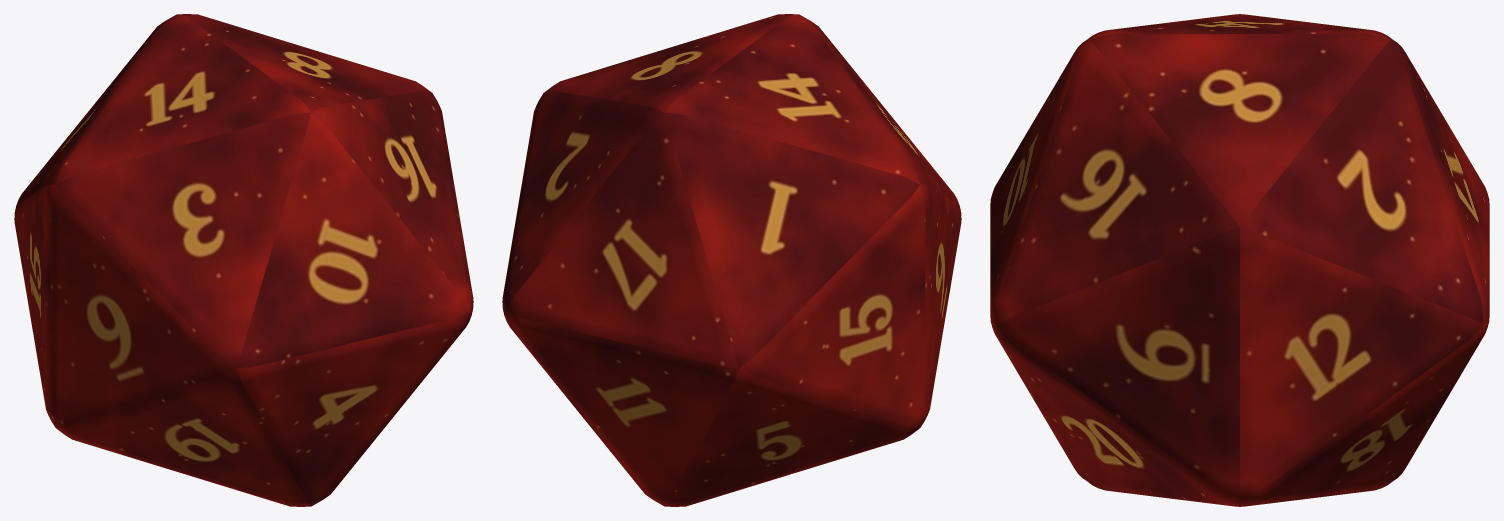
The picture shows the model from 3 angles, left to right: view 1: azimuth 30°, elevation 25°; view 2: azimuth 150°, elevation 25°; view 3: azimuth 270°, elevation 25°; orthographic projection. The views are drawn at different scales.
Visible parts, largest first — view 1: d20; view 2: d20; view 3: d20.
Boxes of the visible parts, x1,y1,x2,y2 form: d20: [14, 14, 473, 506]; d20: [502, 14, 961, 506]; d20: [990, 14, 1489, 506].
Size of the model in its own units: 1.68 by 1.68 by 1.68.
Materials: 1 (1 with a texture image).
